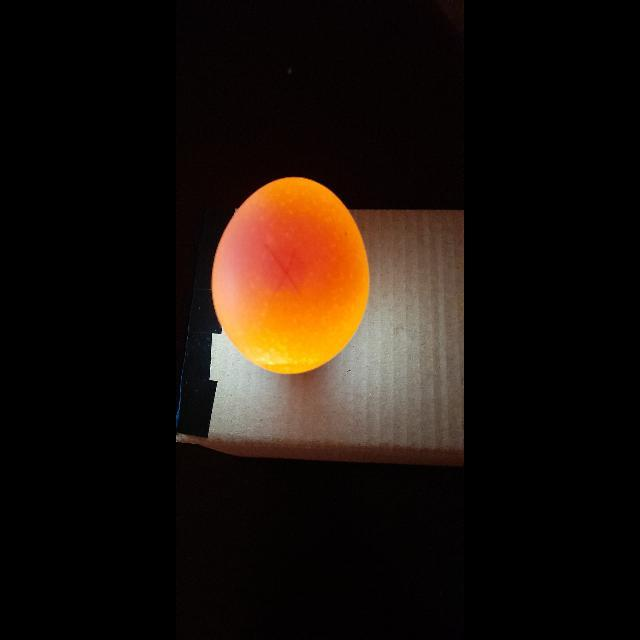Fertile: (216, 170, 368, 378)
